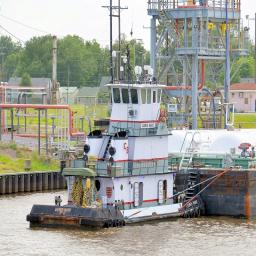tugboat: (26, 43, 207, 238)
